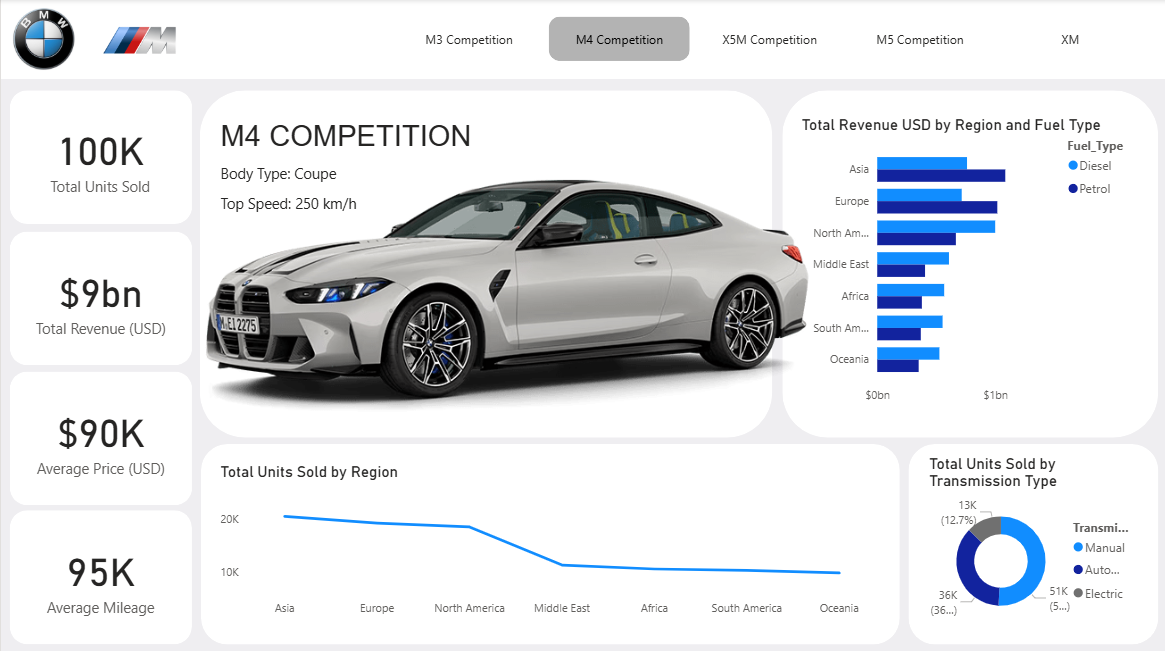

What the dashboard file says about the page in this screenshot:
{"tool":"powerbi","page":{"name":"M4 Competition","canvas":[1280,720],"ordinal":1},"visuals":[{"type":"shape","box":[857.1,100,412.9,381.4],"z":0},{"type":"shape","box":[995.7,488.6,274.3,220],"z":1000},{"type":"shape","box":[9.6,408.9,200.3,146.8],"z":2000},{"type":"shape","box":[9.6,255.2,200.3,146.8],"z":3000},{"type":"shape","box":[9.6,100.2,200.3,146.8],"z":4000},{"type":"shape","box":[219.3,488.6,767.1,220],"z":5000},{"type":"shape","box":[218.6,100,628.6,381.4],"z":6000},{"type":"textbox","box":[235.7,127.1,287.1,48.6],"z":7000},{"type":"lineChart","title":"Total Units Sold by Region","fields":{"Category":["M4_Competition.Region"],"Y":["Sum(M4_Competition.Units_Sold)"]},"box":[235.7,508.6,730,178.6],"z":8000},{"type":"shape","box":[0,0,1280.3,87.8],"z":9000},{"type":"image","box":[0,0,93.3,87.8],"z":10000},{"type":"image","box":[92.9,20,117.1,50],"z":11000},{"type":"card","fields":{"Values":["Sum(M4_Competition.Units_Sold)"]},"box":[39.8,113.9,138.6,119.4],"z":12000},{"type":"card","fields":{"Values":["Sum(M4_Competition.Revenue_USD)"]},"box":[32.9,270.3,153.7,118],"z":13000},{"type":"card","fields":{"Values":["Avg(M4_Competition.Avg_Price_USD)"]},"box":[32.9,424,153.7,118],"z":14000},{"type":"shape","box":[10,561.4,200,147.1],"z":15000},{"type":"textbox","box":[235.7,175.7,152.9,32.9],"z":16000},{"type":"card","fields":{"Values":["Avg(M4_Competition.Mileage_KM)"]},"box":[30,584.3,158.6,102.9],"z":17000},{"type":"donutChart","title":"Total Units Sold by Transmission Type","fields":{"Y":["Sum(M4_Competition.Units_Sold)"],"Category":["M4_Competition.Transmission"]},"box":[1014.3,500,235.7,197.1],"z":18000},{"type":"clusteredBarChart","title":"Total Revenue USD by Region and Fuel Type","fields":{"Category":["M4_Competition.Region"],"Y":["Sum(M4_Competition.Revenue_USD)"],"Series":["M4_Competition.Fuel_Type"]},"box":[874.3,127.1,381.4,325.7],"z":19000},{"type":"textbox","box":[235.7,208.6,168.6,50],"z":20000},{"type":"image","box":[132.9,38.6,881.4,505.7],"z":21000},{"type":"pageNavigator","box":[436.4,19.2,819.2,49.4],"z":21001}]}

Visuals, with their boxes in screenshot pixels (x1, y1, x2, y2), scaled from the page's 1280x720 canvas onto the 1165x651 screenshot:
shape: <region>780, 90, 1156, 435</region>
shape: <region>906, 442, 1156, 641</region>
shape: <region>9, 370, 191, 502</region>
shape: <region>9, 231, 191, 363</region>
shape: <region>9, 91, 191, 223</region>
shape: <region>200, 442, 898, 641</region>
shape: <region>199, 90, 771, 435</region>
textbox: <region>215, 115, 476, 159</region>
"Total Units Sold by Region" lineChart: <region>215, 460, 879, 621</region>
shape: <region>0, 0, 1164, 79</region>
image: <region>0, 0, 85, 79</region>
image: <region>85, 18, 191, 63</region>
card - Sum(M4_Competition.Units_Sold): <region>36, 103, 162, 211</region>
card - Sum(M4_Competition.Revenue_USD): <region>30, 244, 170, 351</region>
card - Avg(M4_Competition.Avg_Price_USD): <region>30, 383, 170, 490</region>
shape: <region>9, 508, 191, 641</region>
textbox: <region>215, 159, 354, 189</region>
card - Avg(M4_Competition.Mileage_KM): <region>27, 528, 172, 621</region>
"Total Units Sold by Transmission Type" donutChart: <region>923, 452, 1138, 630</region>
"Total Revenue USD by Region and Fuel Type" clusteredBarChart: <region>796, 115, 1143, 409</region>
textbox: <region>215, 189, 368, 234</region>
image: <region>121, 35, 923, 492</region>
pageNavigator: <region>397, 17, 1143, 62</region>
